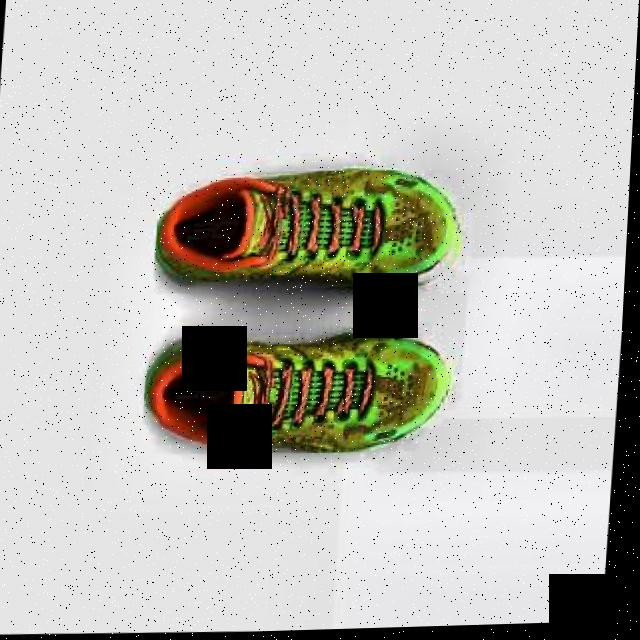shoe: (145, 321, 458, 461), (155, 166, 468, 301)
